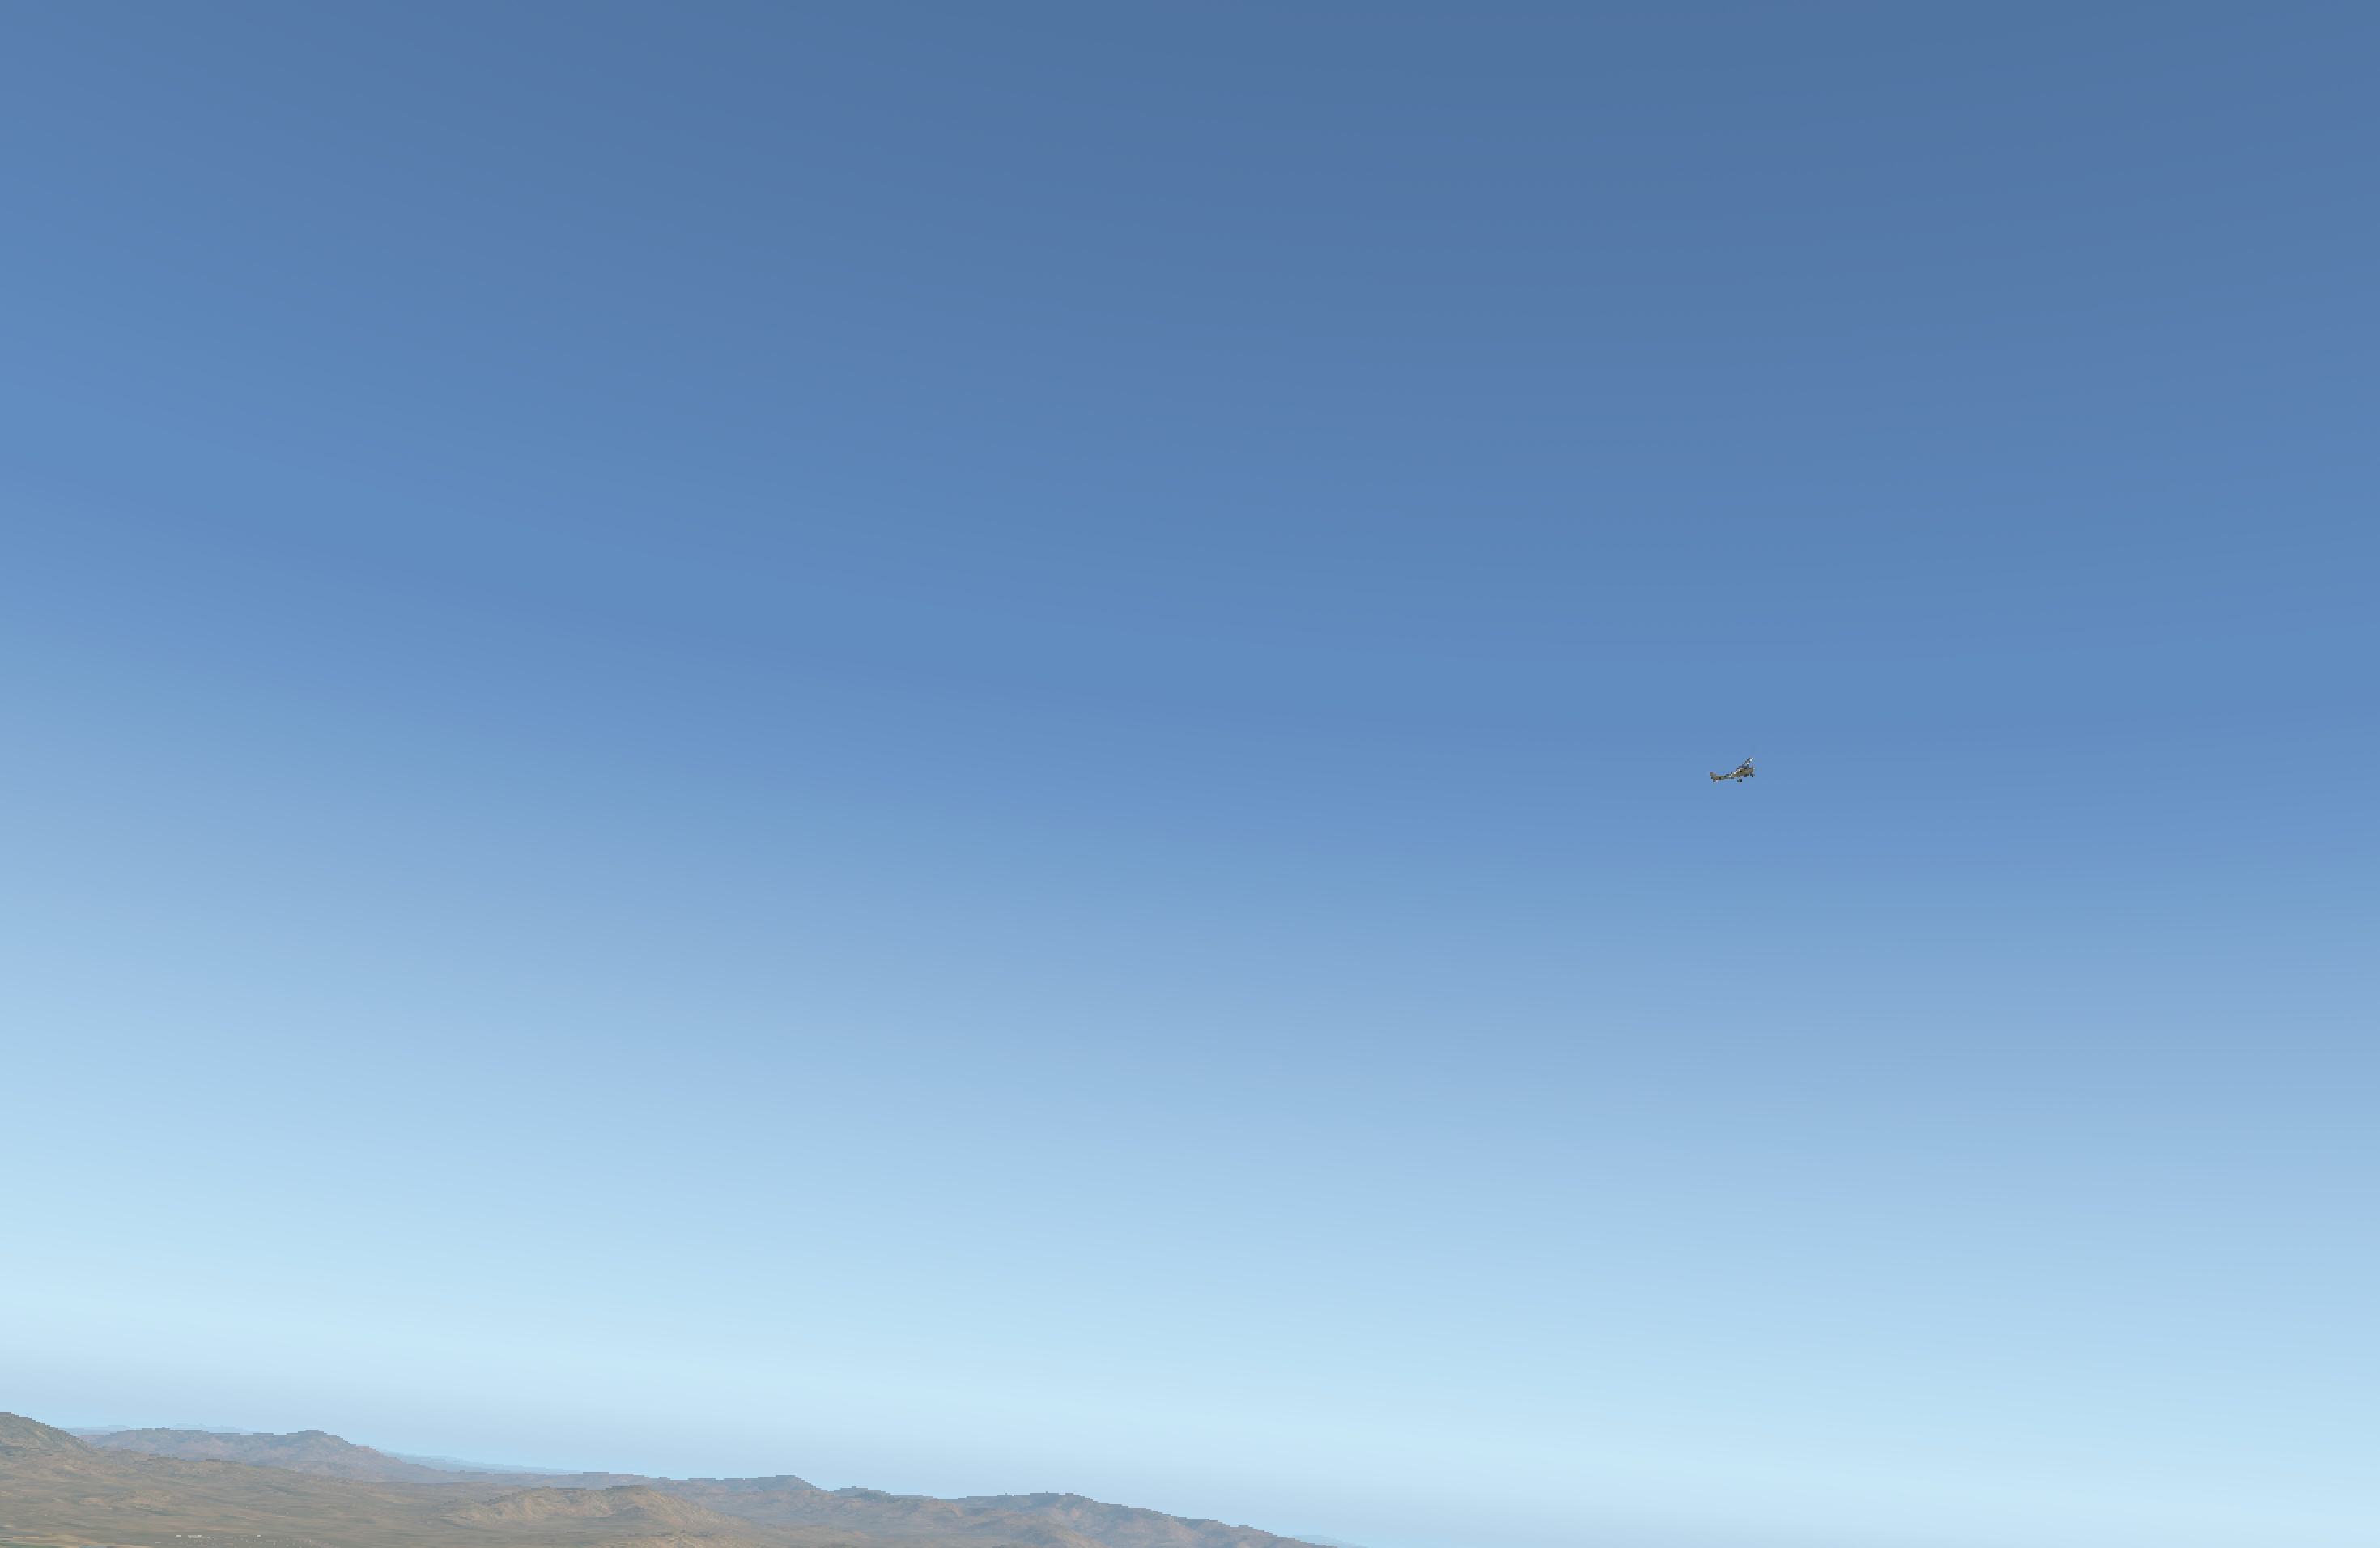aircraft: (1719, 762, 1766, 779)
